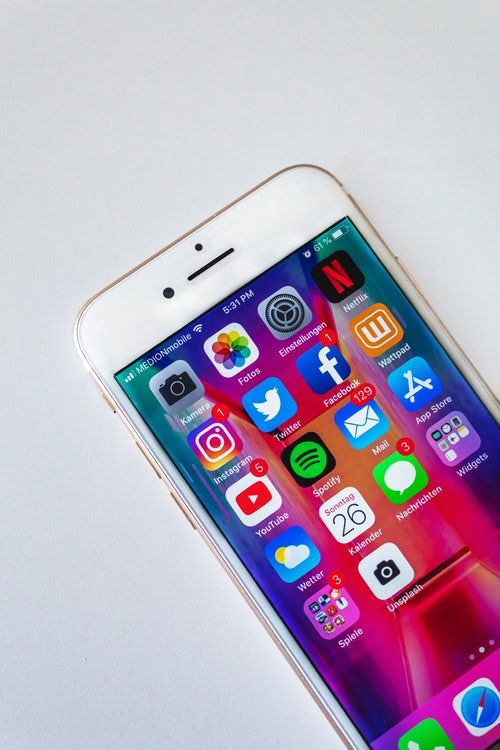phone: (68, 161, 489, 750)
